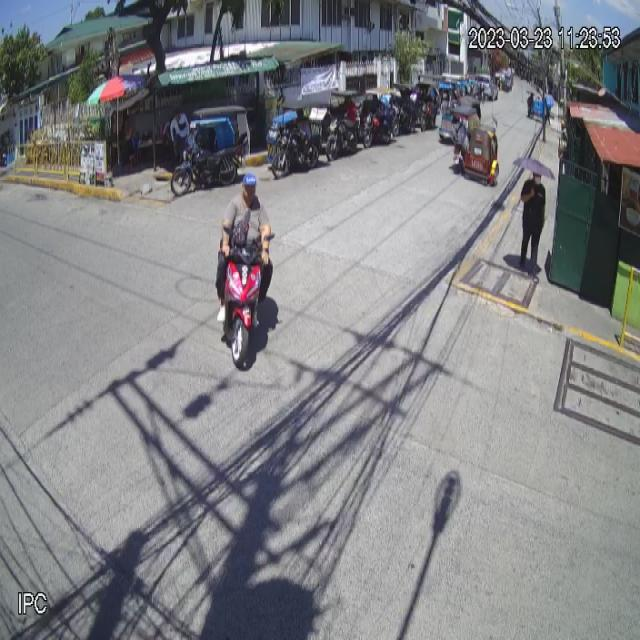Motorcycle: (217, 218, 276, 371)
Tricycle: (451, 105, 500, 188)
